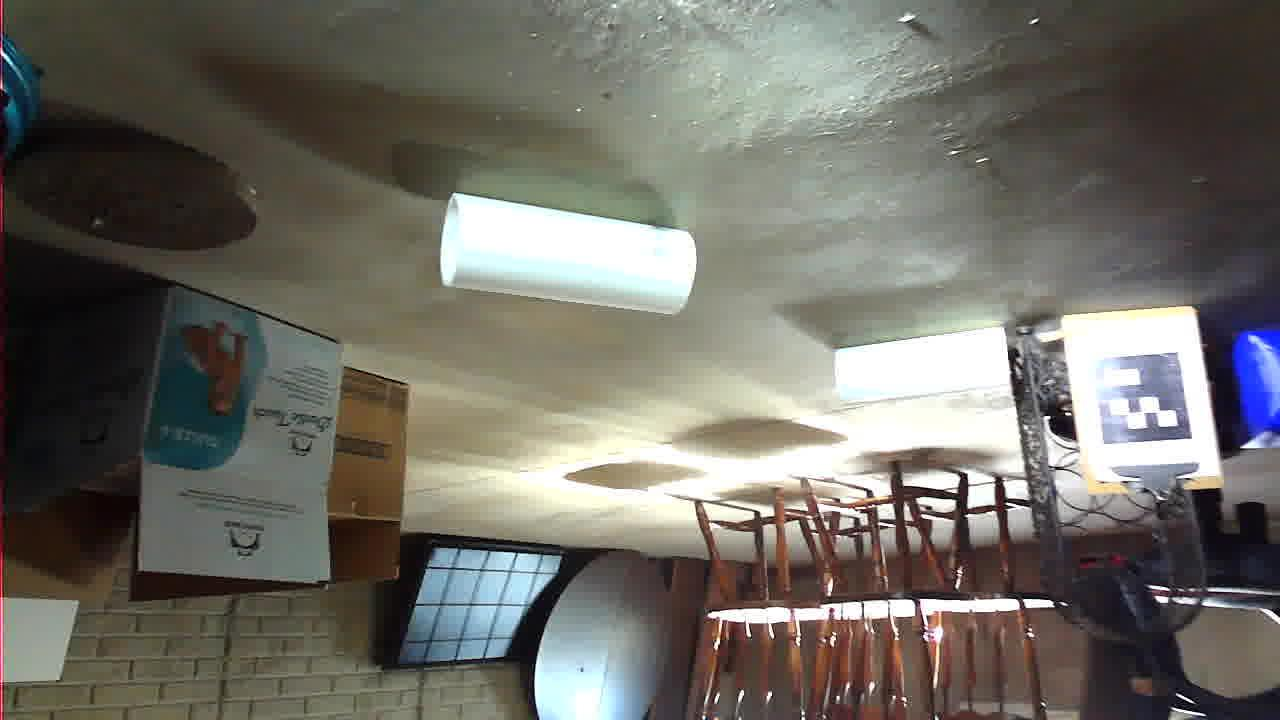coral: (584, 406, 839, 527)
